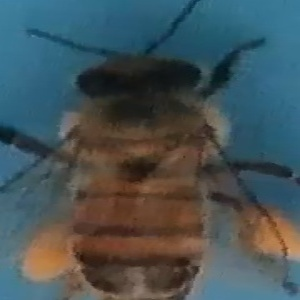bee: (2, 11, 297, 300)
